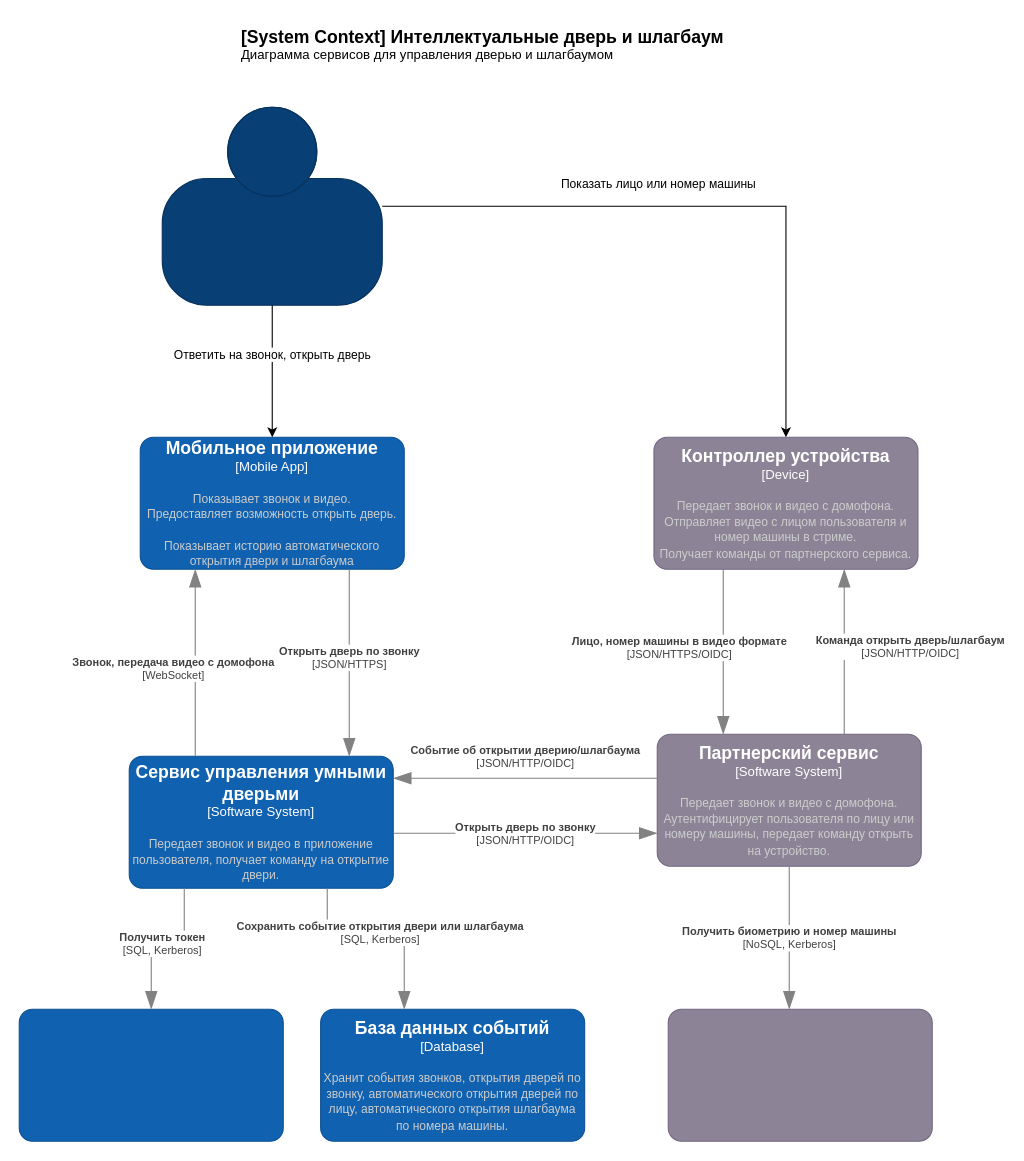
The diagram is 1024 pixels wide and 1161 high, and some of its shapes have lost their labels. The centre of each missing label's shape, as x and y in pixels:
База данных партнера [Database] Хранит фото лица пользователя и номер машины: point (799, 1074)
База данных токенов [Database] Хранит токены пользователей: point (150, 1074)
Пользователь [Person] Открывает дверь, открывает шлагбаум: point (271, 205)
